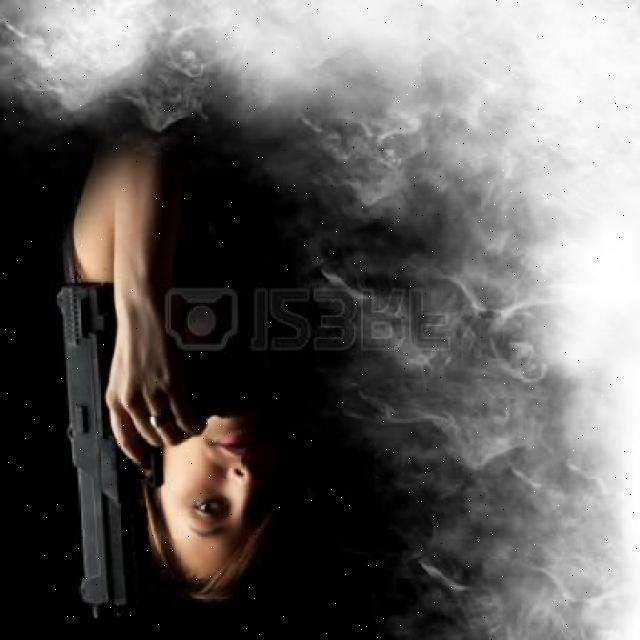gun: (57, 255, 200, 634)
